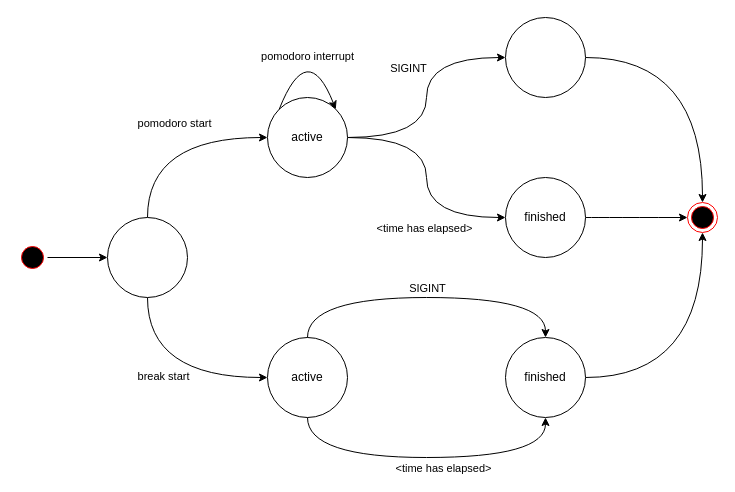
Image size: 735x492. Some labels were removed from this diagram. Each missing label, with the centre of its shape:
"cancelled" goes at point (545, 57).
"new" goes at point (147, 257).
